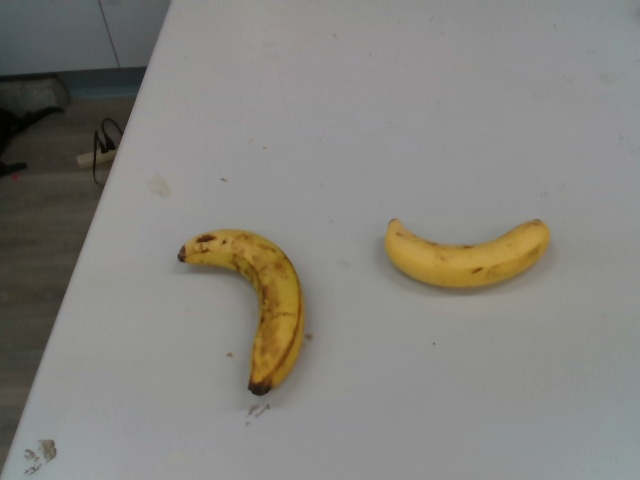banana: (177, 229, 307, 396), (381, 215, 552, 292)
